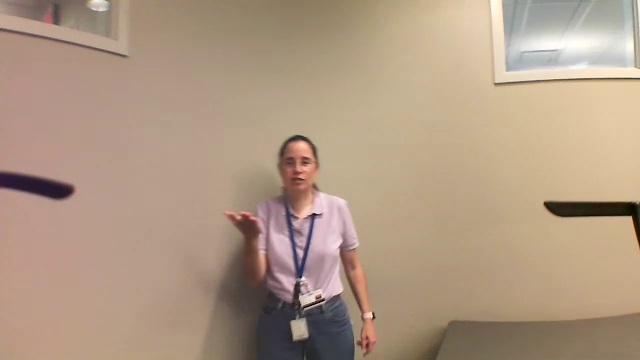land: (208, 197, 271, 244)
